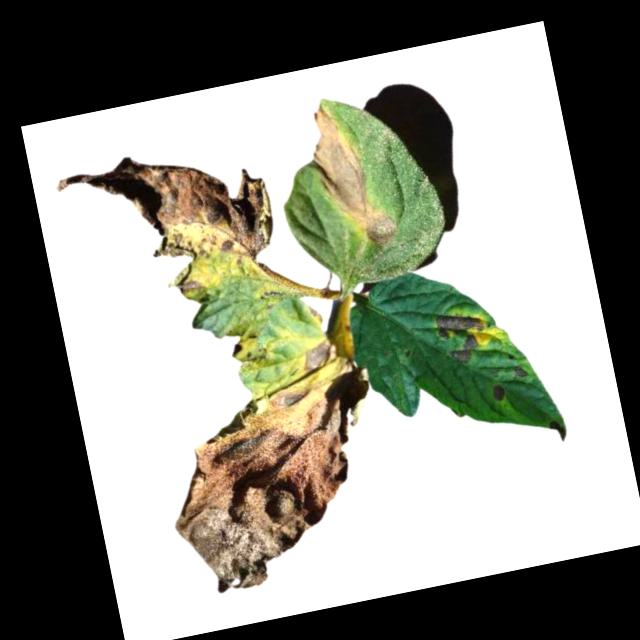Early_blight: (151, 359, 395, 601), (53, 128, 289, 317), (300, 96, 400, 256), (432, 305, 491, 366), (298, 335, 340, 370), (547, 415, 568, 443), (490, 380, 510, 403), (512, 362, 531, 380), (228, 342, 245, 356)
